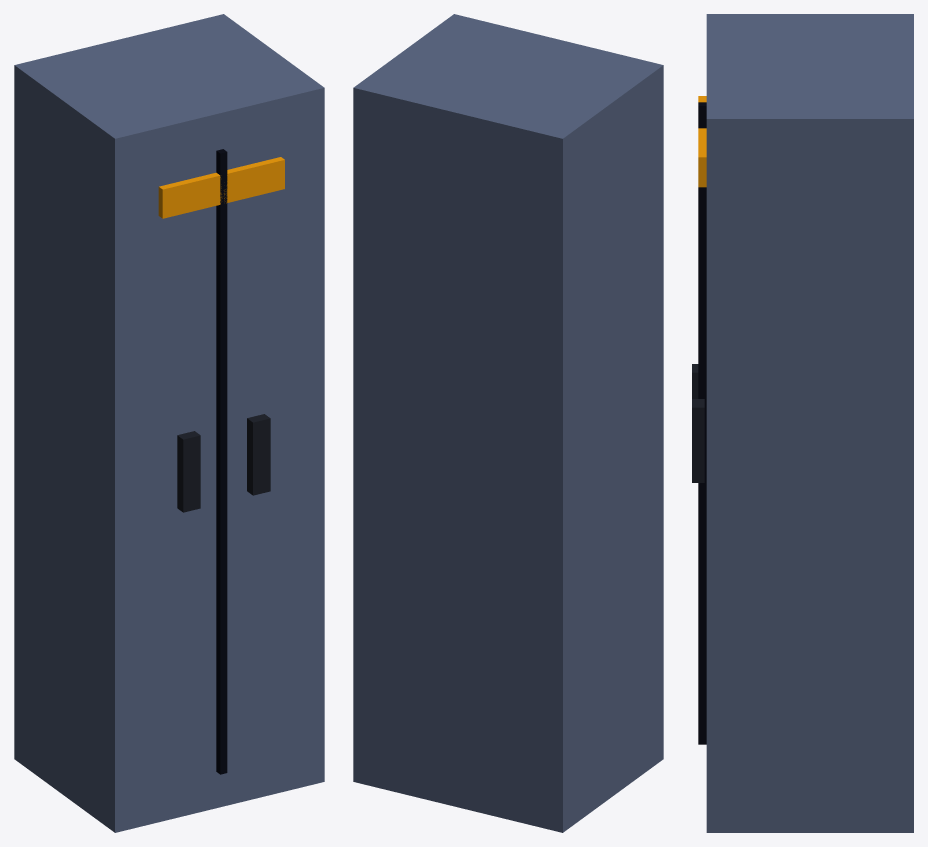
Rendered from storage_locker.obj.
3 renders of one model, left to right at view 1: azimuth 30°, elevation 25°; view 2: azimuth 150°, elevation 25°; view 3: azimuth 270°, elevation 25°, orthographic. The views are drawn at different scales.
Visible parts, largest first — view 1: storage_locker; view 2: storage_locker; view 3: storage_locker.
Boxes of the visible parts, x1,y1,x2,y2 form: storage_locker: (14, 14, 324, 832); storage_locker: (353, 14, 663, 832); storage_locker: (692, 14, 913, 832).
Bounding box in the file's own units: 0.6 × 1.9 × 0.535.
